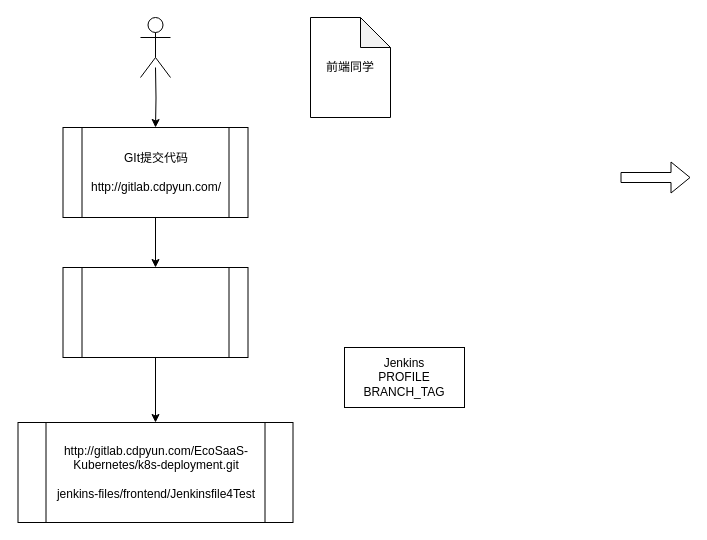
The diagram is 707 pixels wide and 540 high, and some of its shapes have lost their labels. Each missing label, with the centre of its shape:
"Actor" goes at [155,47].
"Jenkins 线下发布 XXX-offline https://jenkins-k8s.ecosaas.com/" goes at [155,312].
